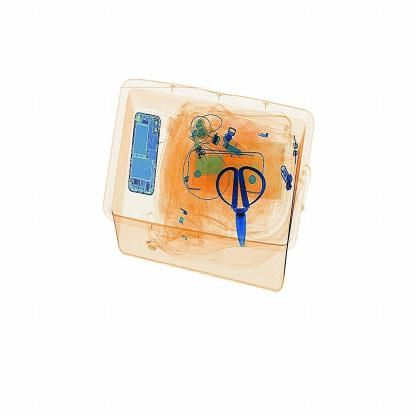gun: (207, 155, 275, 264)
